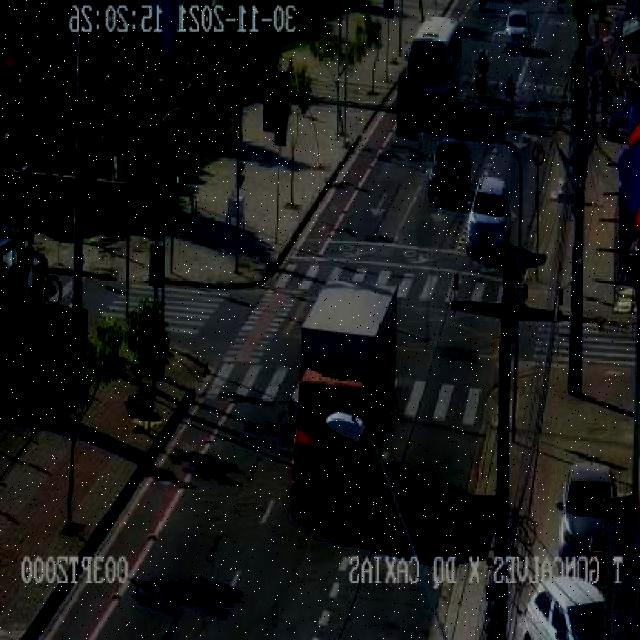Bus: (400, 15, 464, 128)
Car: (557, 464, 617, 558), (524, 575, 605, 640), (466, 176, 510, 260), (429, 141, 473, 209), (502, 9, 532, 51)
Cycle: (11, 252, 64, 306), (473, 60, 490, 101), (502, 94, 516, 124)
Truck: (282, 282, 400, 520)
